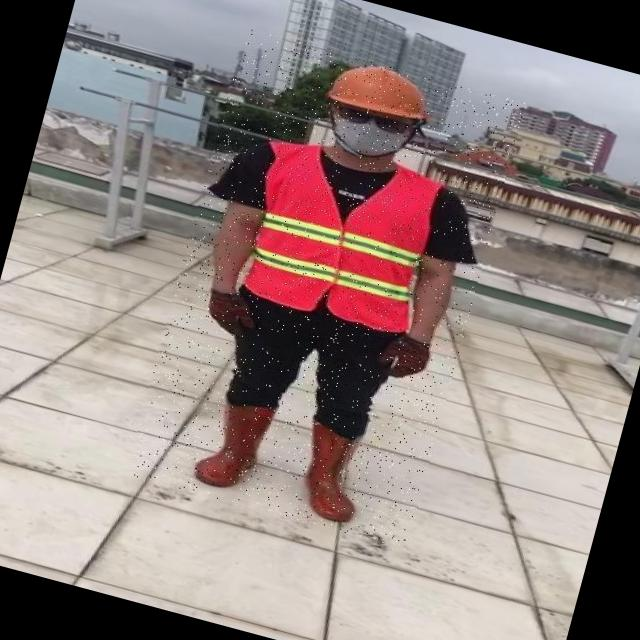hard_hat: (322, 53, 441, 129)
safety_vest: (228, 134, 447, 340)
vehicle: (125, 28, 526, 550)
work_boots: (287, 419, 379, 528), (192, 393, 274, 496)
